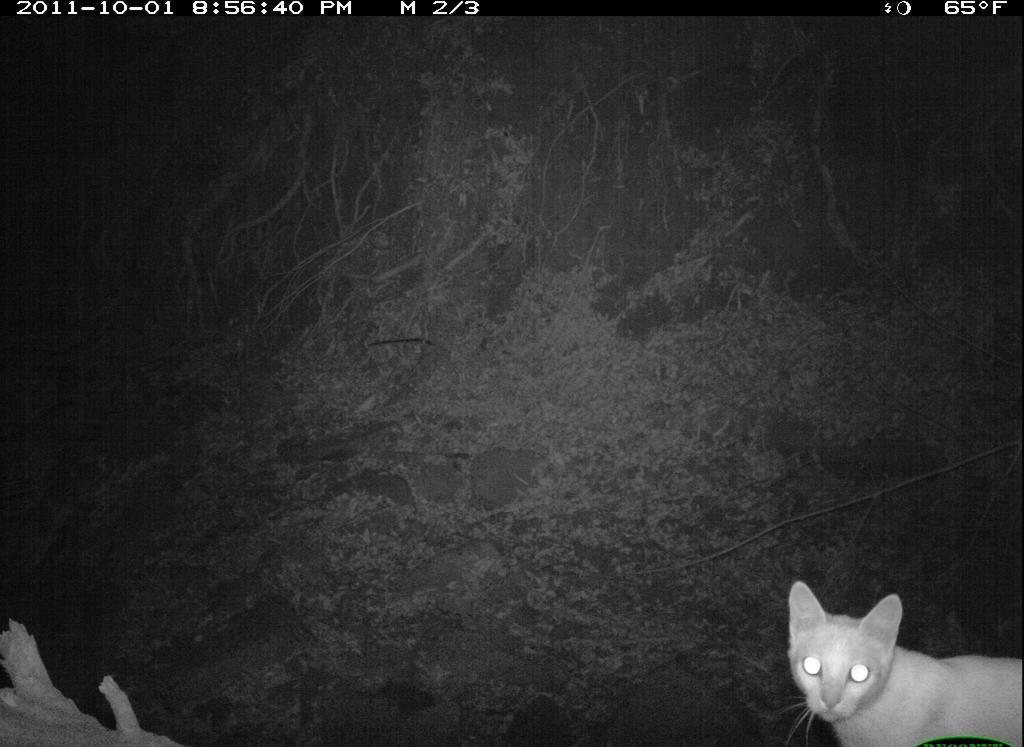cat: (788, 574, 1019, 747)
